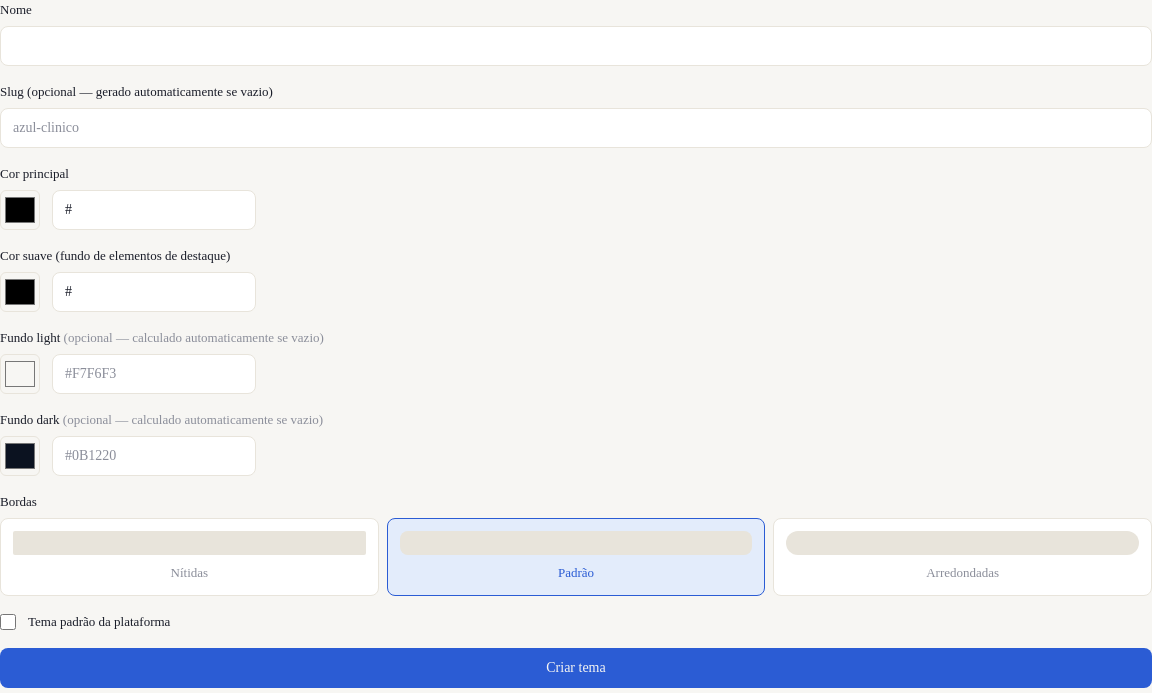
Scenario: ThemeForm (integration) — create mode › shows validation error for invalid accentColor format
Step 1. Type "Azul Clínico" into the field with test id "theme-form-name" → coordinates (576, 46), box [0,26,1151,66]
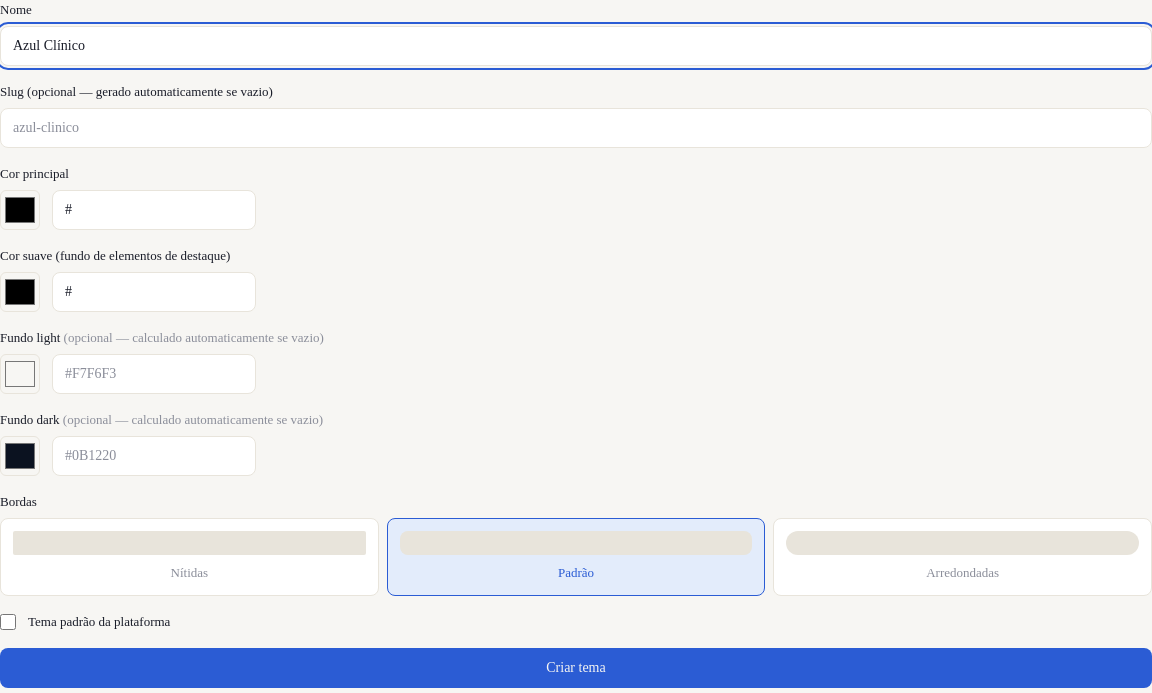
Step 2. Replace the text in the field with test id "theme-form-accent-color" with "invalid" → coordinates (154, 210), box [52,190,256,230]
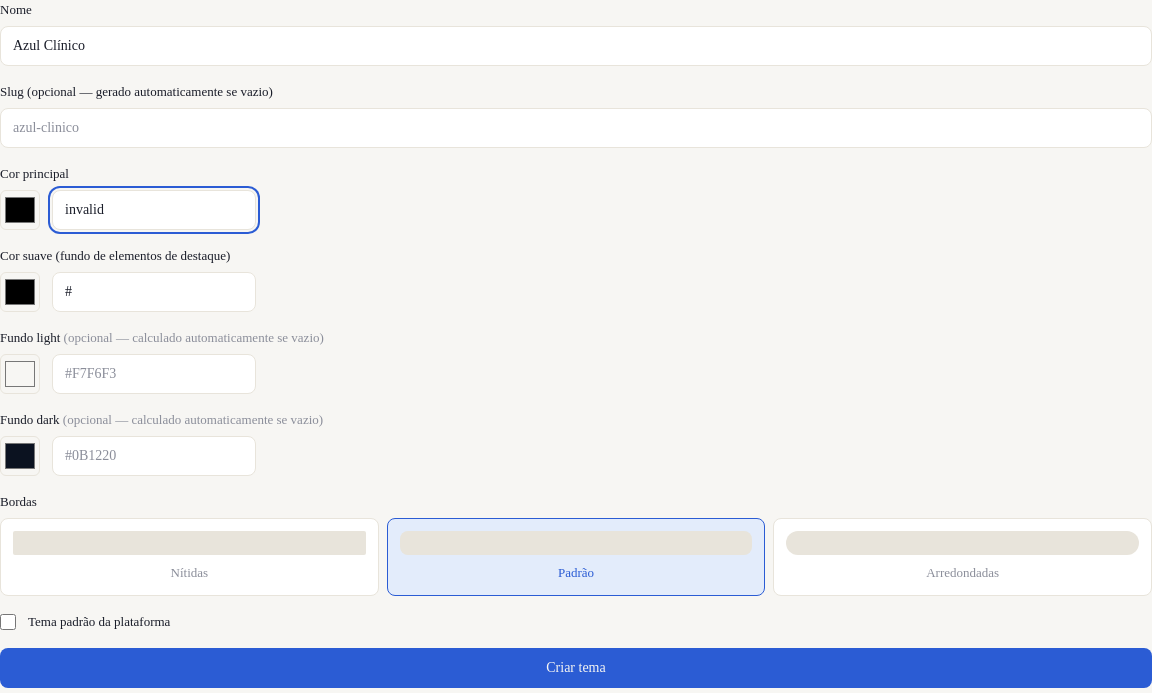
Step 3. Click the button with test id "theme-form-submit" → coordinates (576, 668), box [0,648,1151,688]
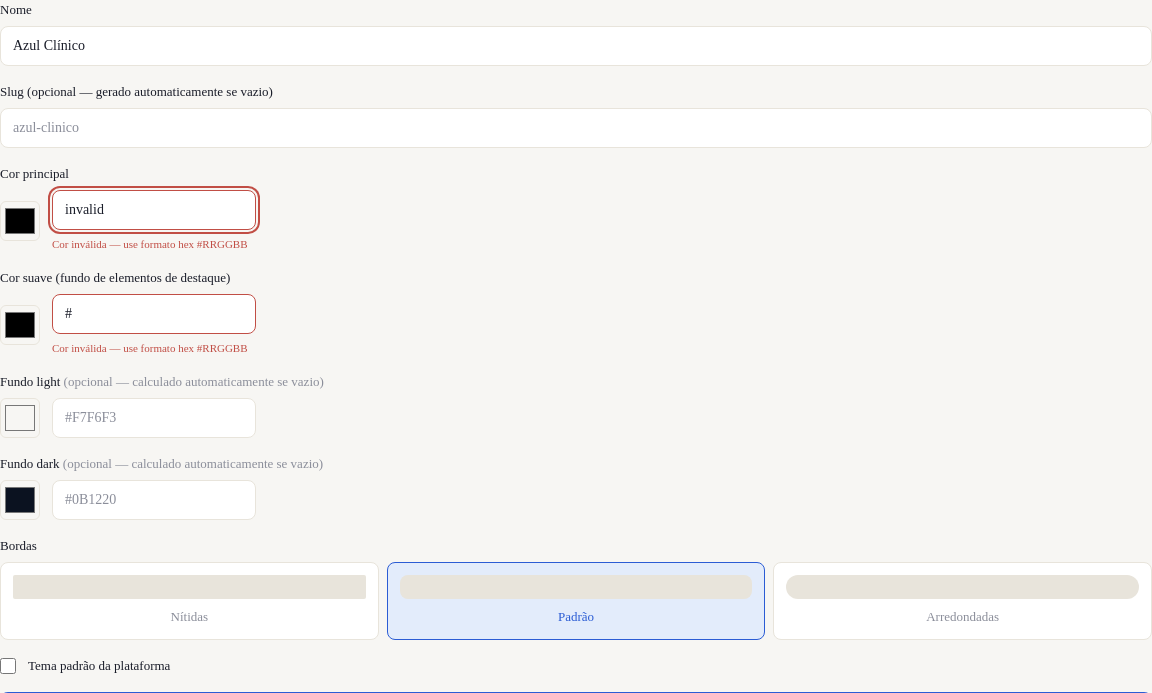
Expected: the text "Cor inválida — use formato hex #RRGGBB" below "Cor principal" is shown, [52,238,248,250]
